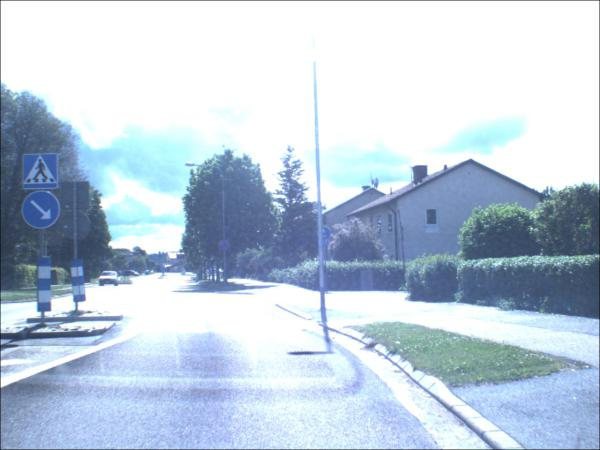NO_PARKING: (220, 240, 232, 253)
PASS_RIGHT_SIDE: (24, 192, 63, 230)
PEDESTRIAN_CROSSING: (24, 156, 60, 190)
